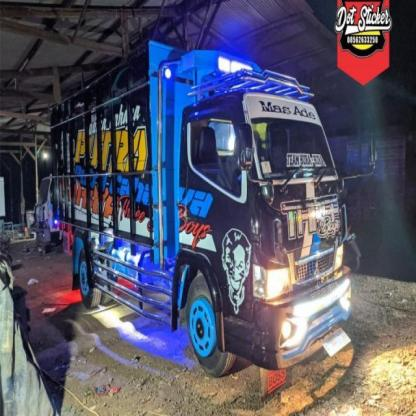truck: (52, 41, 377, 378)
